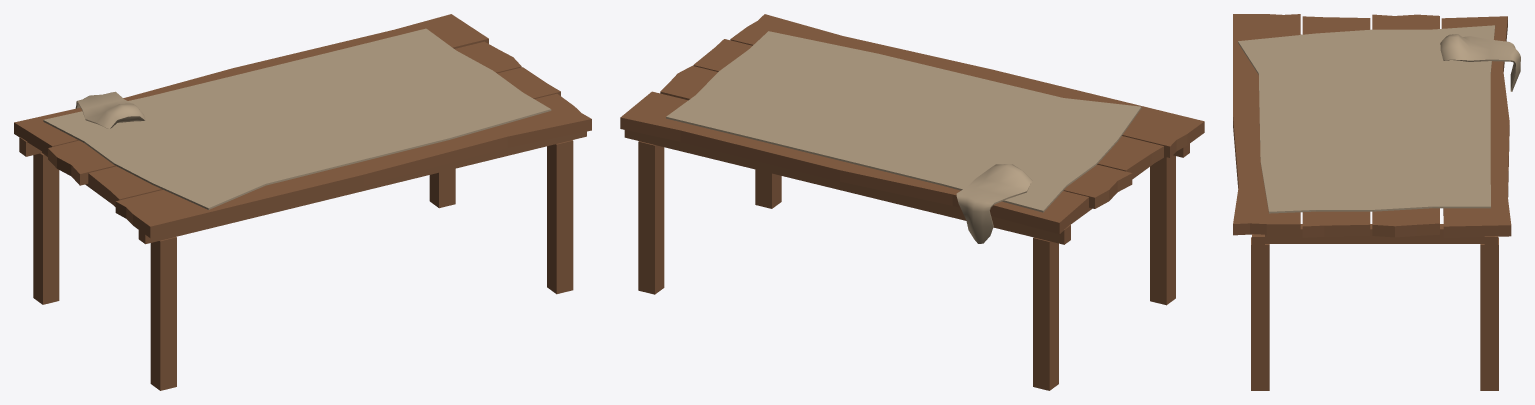
The model's file is CampTable_01.fbx.
3 renders of one model, left to right at view 1: azimuth 30°, elevation 25°; view 2: azimuth 150°, elevation 25°; view 3: azimuth 270°, elevation 25°, orthographic. The views are drawn at different scales.
Visible parts, largest first — view 1: TableBoard.003, TableBoard, legsSquare, TableBoard.004; view 2: TableBoard.003, TableBoard, legsSquare, TableBoard.004; view 3: TableBoard.003, TableBoard, legsSquare, TableBoard.004.
Boxes of the visible parts, x1,y1,x2,y2 form: TableBoard.003: (43, 28, 551, 209); TableBoard: (14, 14, 591, 238); legsSquare: (19, 131, 586, 390); TableBoard.004: (75, 91, 145, 128); TableBoard.003: (666, 31, 1141, 212); TableBoard: (620, 14, 1204, 234); legsSquare: (624, 130, 1189, 390); TableBoard.004: (956, 164, 1032, 243); TableBoard.003: (1238, 25, 1495, 213); TableBoard: (1233, 14, 1511, 237); legsSquare: (1251, 34, 1498, 390); TableBoard.004: (1440, 34, 1520, 91).
Size of the model in its own units: 206 by 85.3 by 118.
